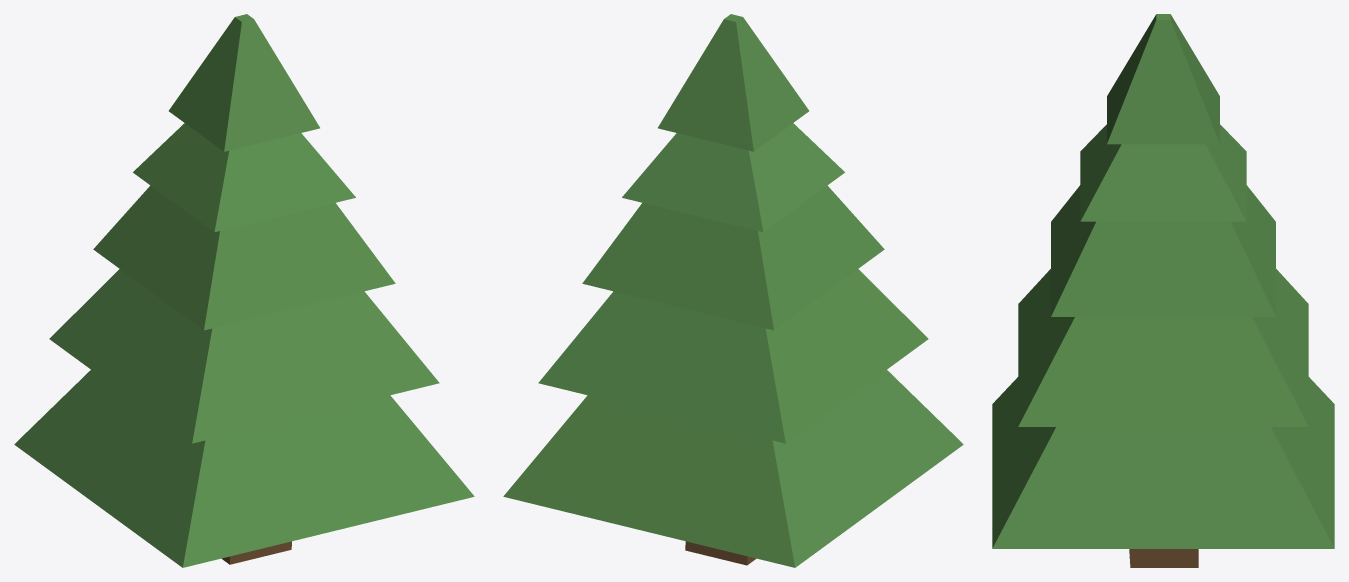
Rendered from tree3d-157.glb.
3 renders of one model, left to right at view 1: azimuth 30°, elevation 25°; view 2: azimuth 150°, elevation 25°; view 3: azimuth 270°, elevation 25°, orthographic.
Visible parts, largest first — view 1: tree3d-157; view 2: tree3d-157; view 3: tree3d-157.
Part boxes in pixels (x1=…): tree3d-157: x1=14, y1=14, x2=474, y2=567; tree3d-157: x1=503, y1=14, x2=963, y2=567; tree3d-157: x1=992, y1=14, x2=1334, y2=567.
Size of the model in its own units: 0.5797 by 1 by 0.5797.
